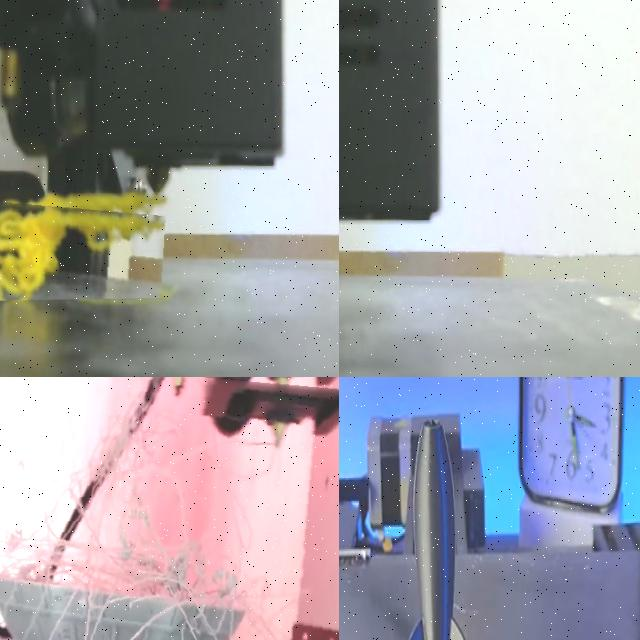spaghetti: (0, 377, 339, 640), (0, 203, 165, 300)
